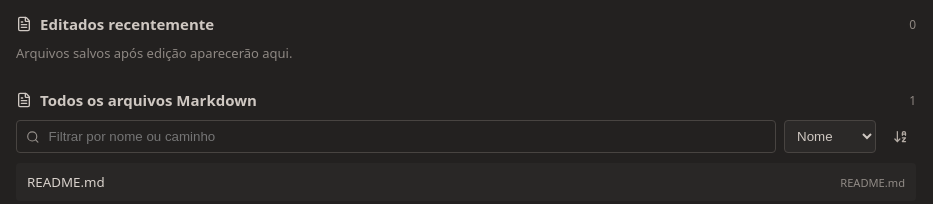
Test: ProjectHome › filters the catalog by path
Type "missing" into the search field named "Filtrar arquivos Markdown" at (406, 136), box [47,128,766,145]
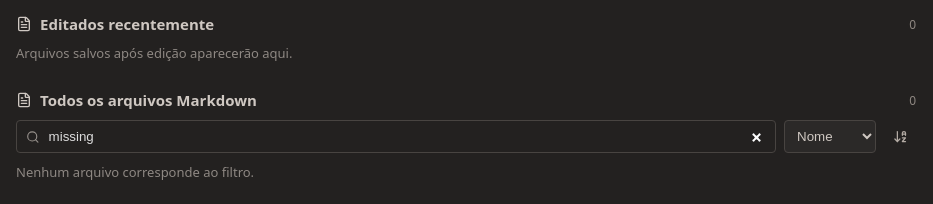
Now the text "Nenhum arquivo corresponde ao filtro." is shown, box [16,163,254,181]
